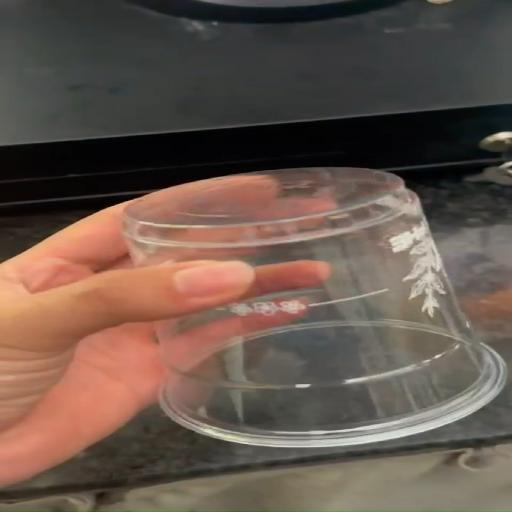ly_nhua: (123, 167, 506, 447)
